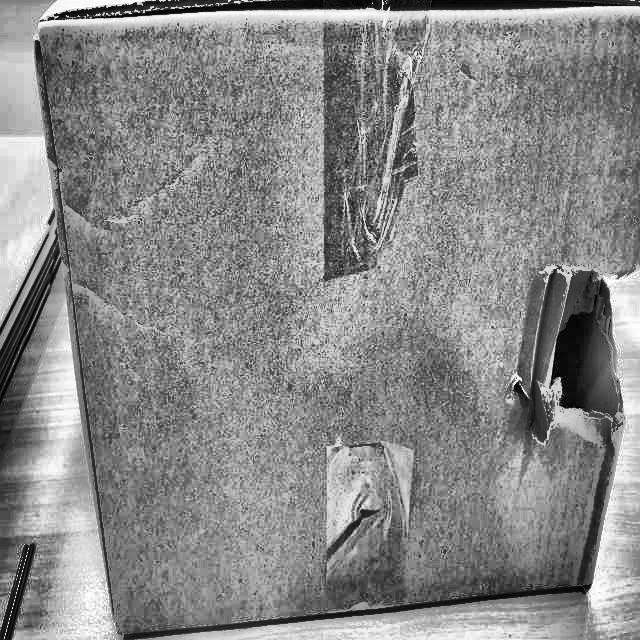box: (24, 0, 639, 639)
hole: (531, 252, 633, 449)
